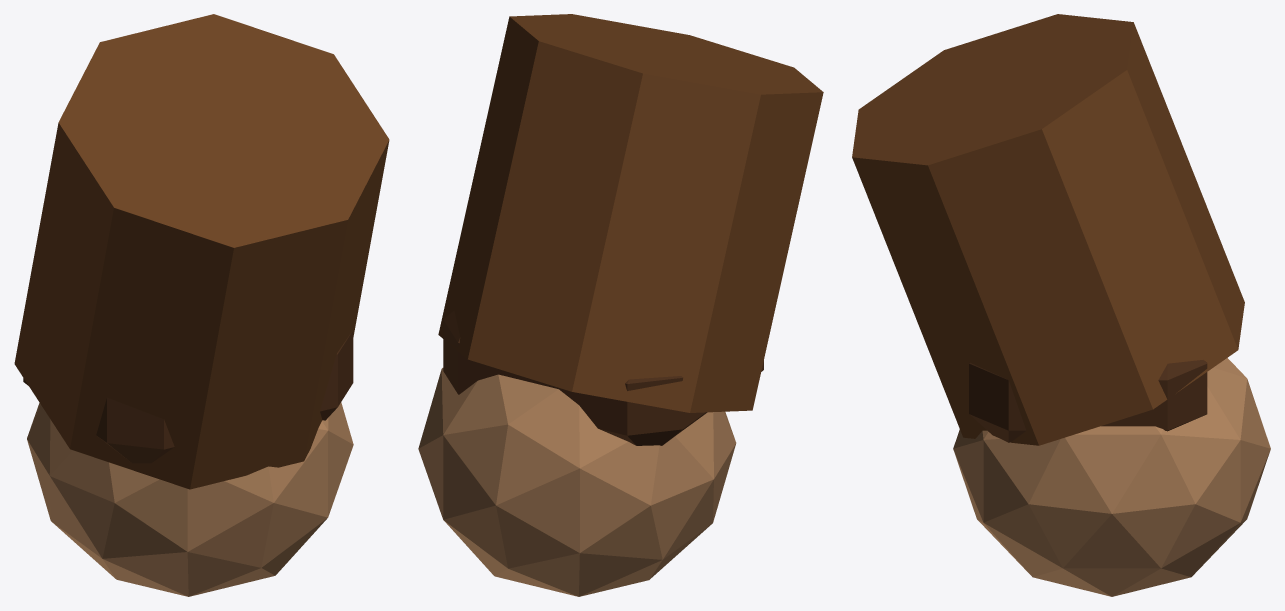
The model's file is ForearmRight.glb.
3 views of the same model, side by side, from view 1: azimuth 30°, elevation 25°; view 2: azimuth 150°, elevation 25°; view 3: azimuth 270°, elevation 25° (orthographic). The views are drawn at different scales.
Visible parts, largest first — view 1: Sculpture; view 2: Sculpture; view 3: Sculpture.
Part boxes in pixels (x1=…): Sculpture: x1=14, y1=14, x2=389, y2=596; Sculpture: x1=418, y1=14, x2=823, y2=596; Sculpture: x1=852, y1=14, x2=1270, y2=596.
Bounding box in the file's own units: 0.2107 × 0.3663 × 0.2636.
